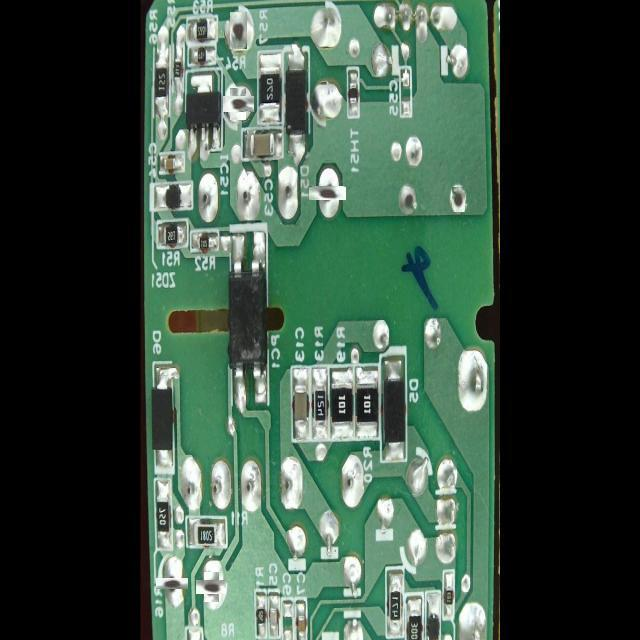damged: (314, 180, 340, 206), (230, 12, 248, 49), (226, 92, 250, 116), (200, 576, 223, 598), (161, 572, 183, 594), (452, 188, 465, 214), (403, 188, 415, 216)
